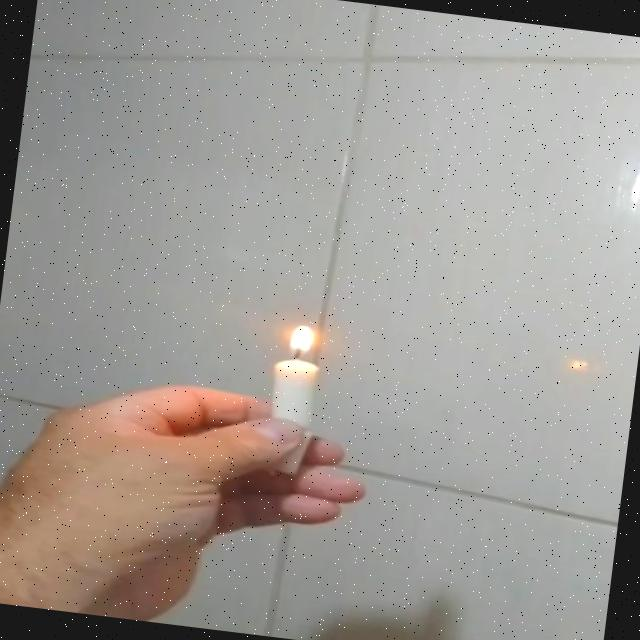fire: (279, 320, 322, 363)
